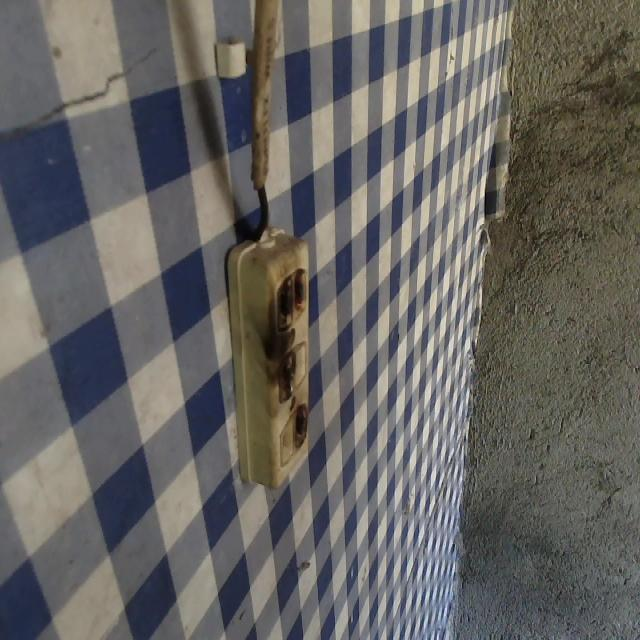-: (271, 265, 310, 324), (276, 348, 297, 401), (293, 407, 309, 442)
